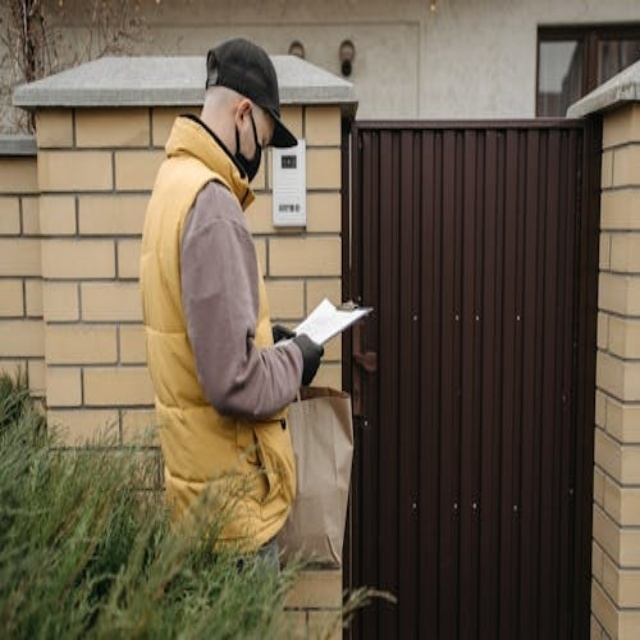Guantes: (293, 322, 326, 389), (272, 323, 295, 345)
Mascara: (234, 112, 263, 185)
Sin_gafas: (250, 111, 273, 151)
